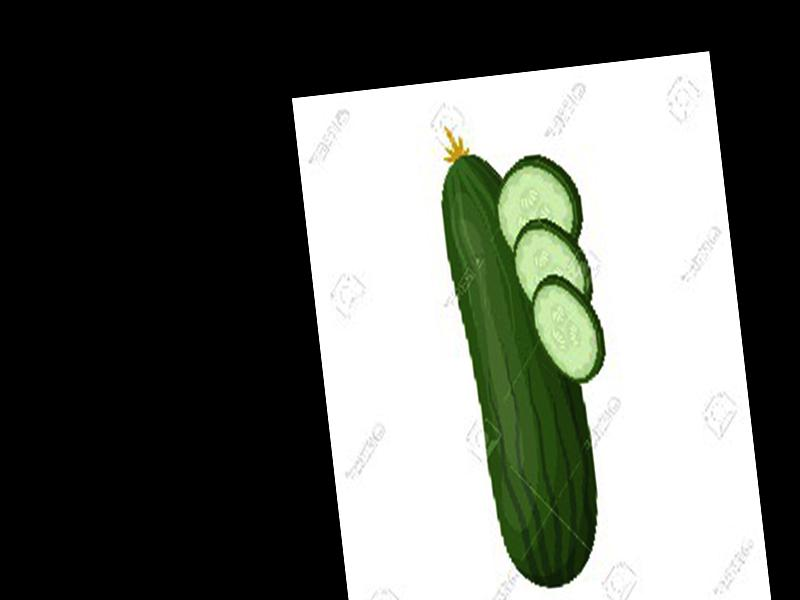Cucumber: (433, 118, 607, 598)
